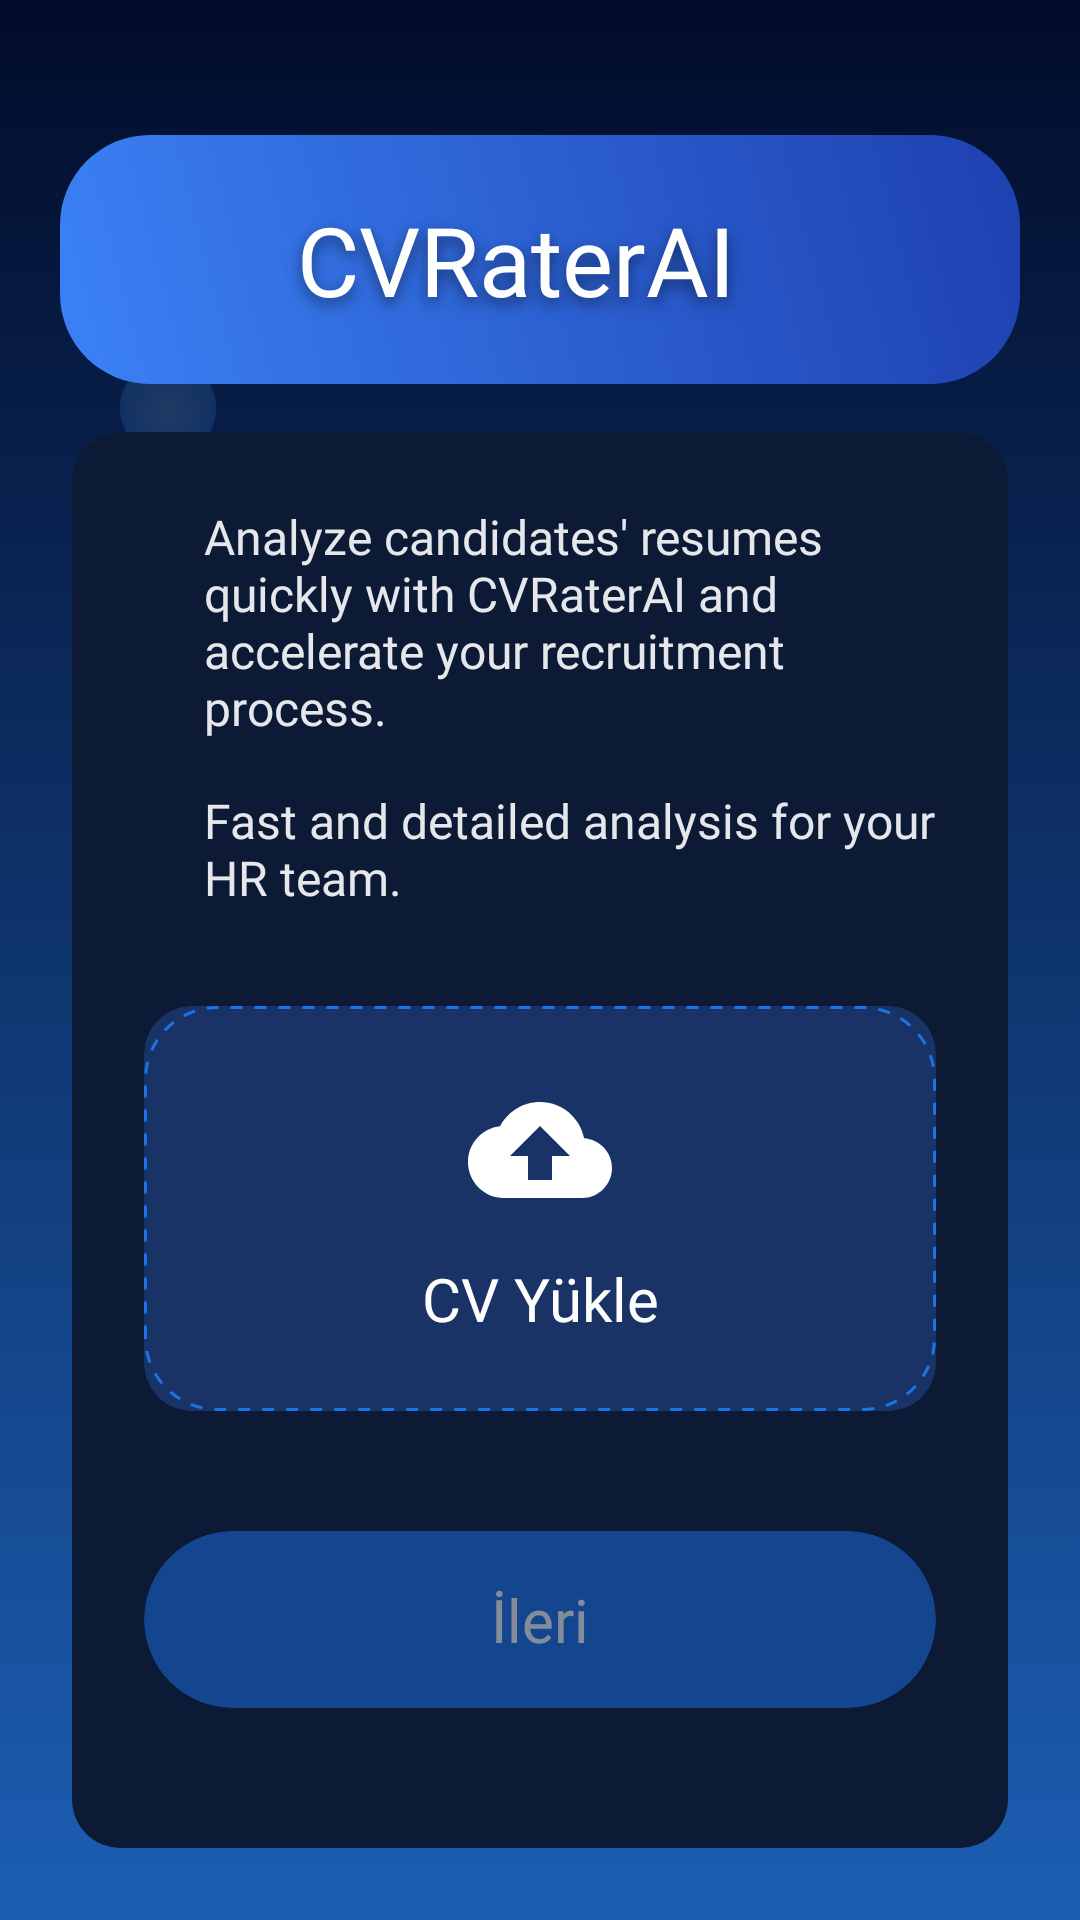

Where to tap for icons on this 1080x1920 app screen, as (x=x, y=y):
upload: (x=540, y=1150)
